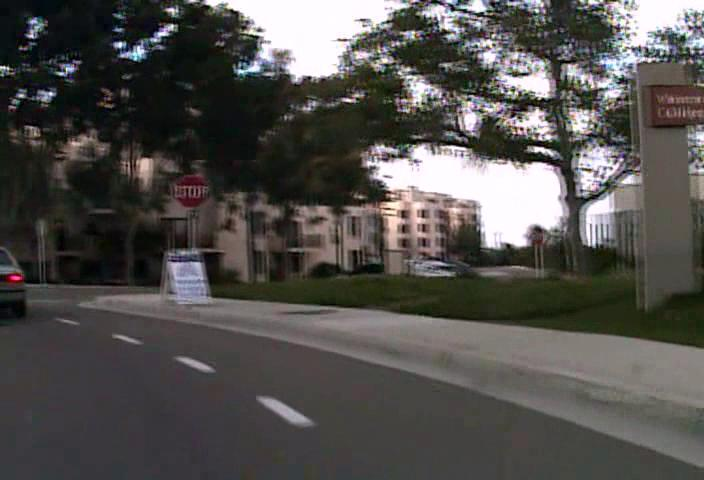stop: (172, 173, 209, 209)
